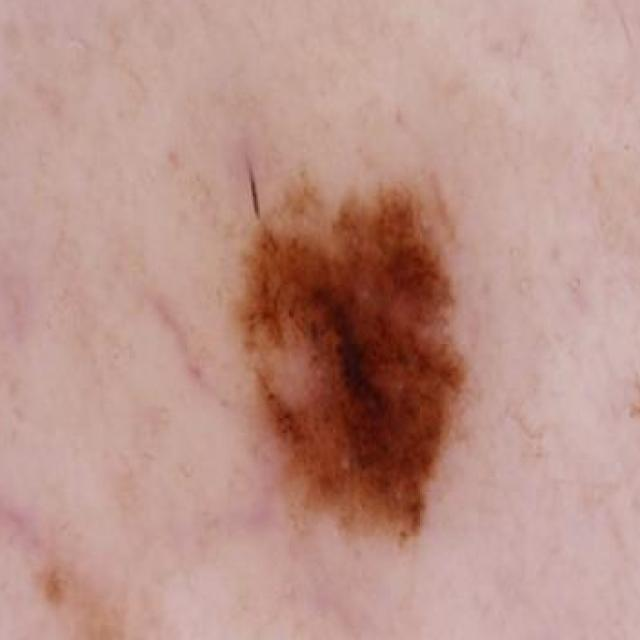NV: (231, 161, 483, 559)
